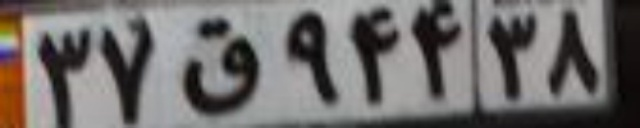3: (34, 27, 93, 126), (488, 12, 538, 98)
4: (409, 1, 462, 97), (351, 6, 398, 104)
7: (97, 16, 163, 125)
8: (544, 8, 599, 92)
9: (286, 13, 337, 100)
ghaf: (177, 20, 260, 112)
